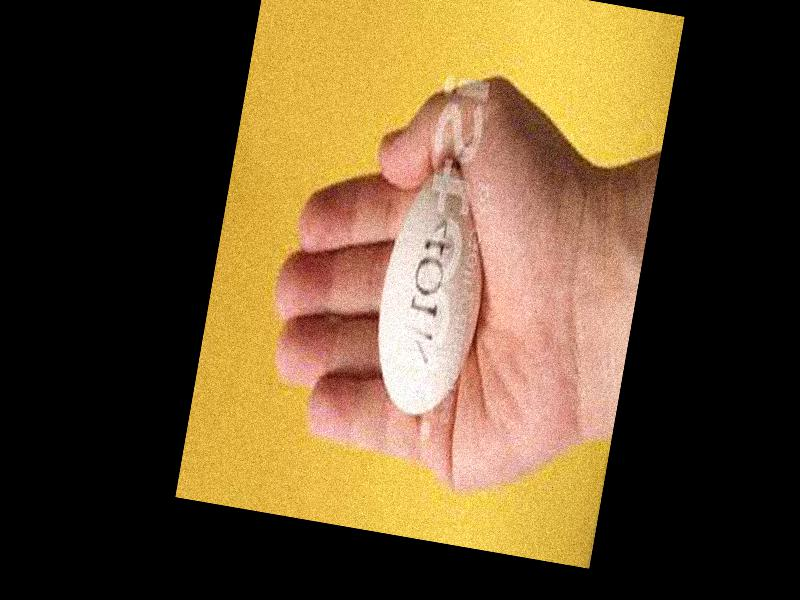Eggs: (363, 158, 501, 422)
